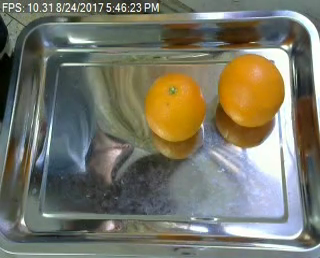Orange: (217, 53, 284, 127), (144, 72, 206, 142)
